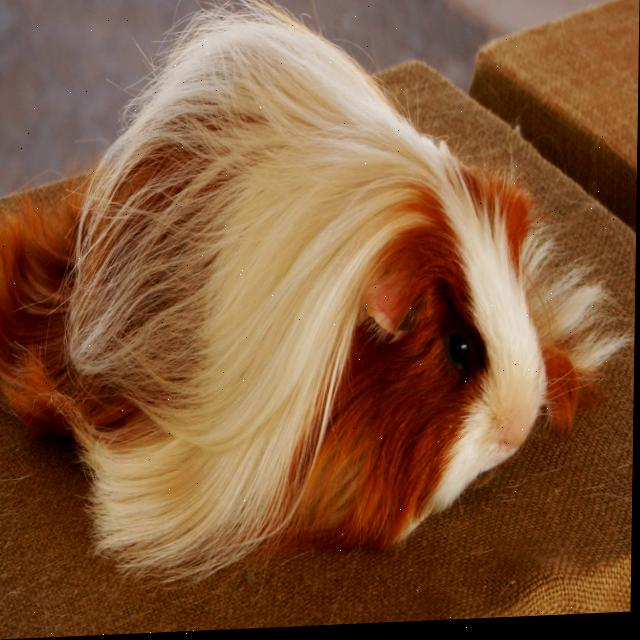guinea pig: (0, 0, 592, 582)
